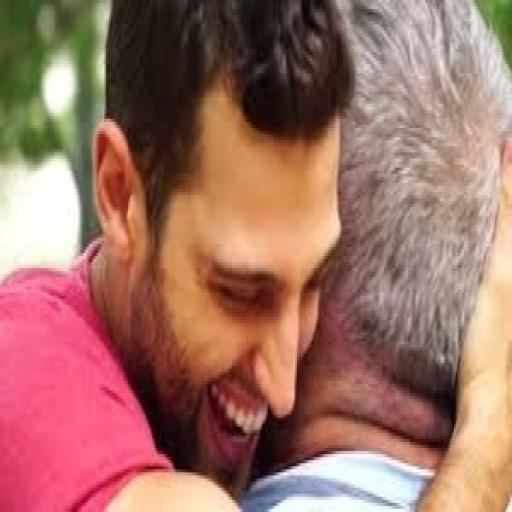hugging: (0, 0, 510, 509)
